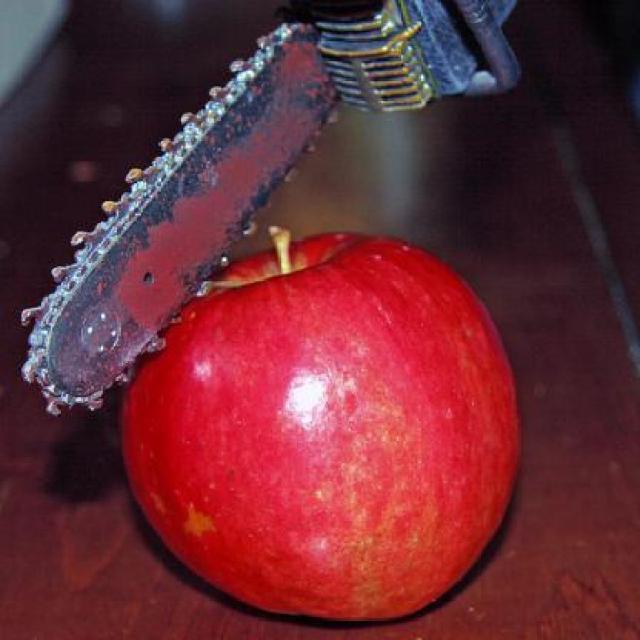Chainsaw: (16, 0, 518, 418)
